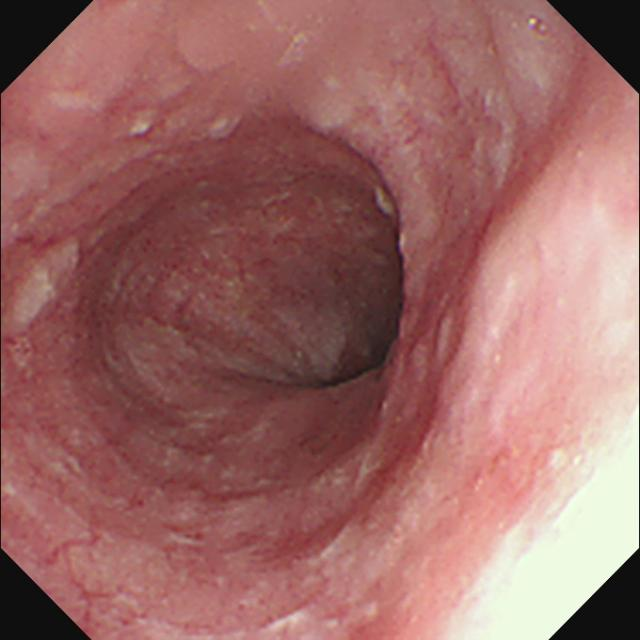A: (361, 308, 469, 486), (487, 75, 580, 227), (125, 239, 241, 341), (251, 514, 367, 568)
E: (302, 353, 397, 391)
J: (2, 237, 83, 341), (203, 118, 242, 141), (375, 188, 400, 223), (124, 113, 157, 138)
U: (481, 455, 640, 640)
